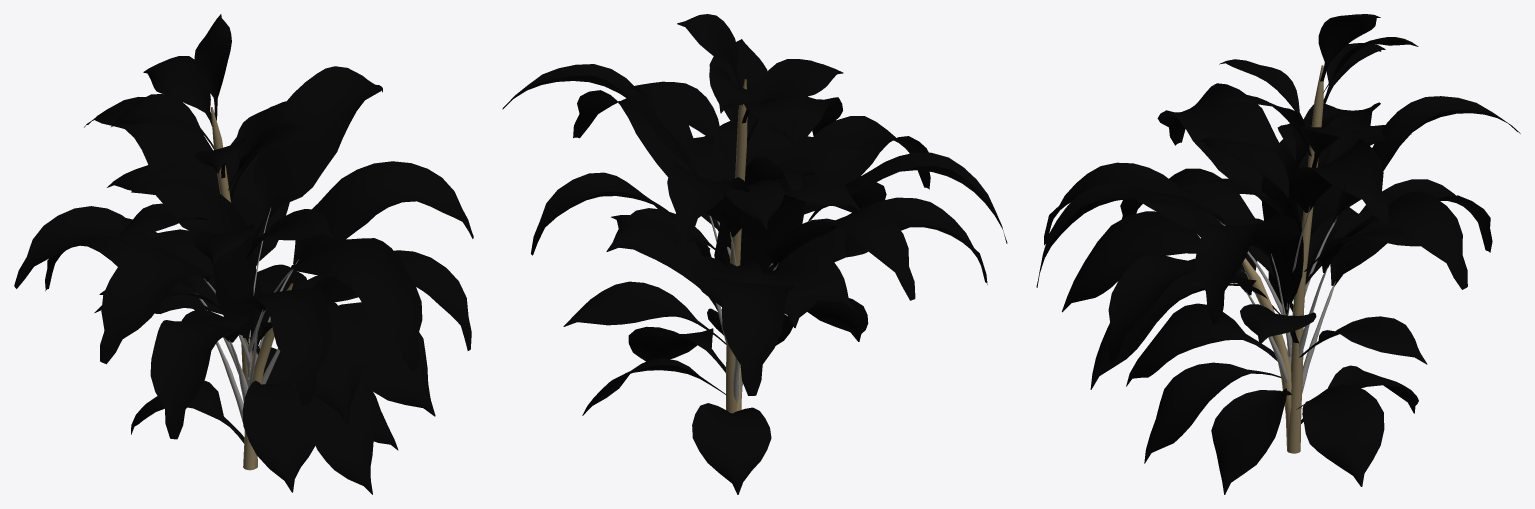
Rendered from Plants_Mesh.fbx.
3 renders of one model, left to right at view 1: azimuth 30°, elevation 25°; view 2: azimuth 150°, elevation 25°; view 3: azimuth 270°, elevation 25°, orthographic. The views are drawn at different scales.
Visible parts, largest first — view 1: Plant_3_Mdl, Plant_1_Mdl, Plant_2_Mdl; view 2: Plant_3_Mdl, Plant_2_Mdl, Plant_1_Mdl; view 3: Plant_3_Mdl, Plant_1_Mdl, Plant_2_Mdl.
Boxes of the visible parts, x1,y1,x2,y2 form: Plant_3_Mdl: [14, 66, 473, 439]; Plant_1_Mdl: [99, 251, 435, 494]; Plant_2_Mdl: [94, 14, 358, 469]; Plant_3_Mdl: [502, 64, 1007, 402]; Plant_2_Mdl: [563, 14, 869, 413]; Plant_1_Mdl: [582, 182, 886, 494]; Plant_3_Mdl: [1036, 83, 1520, 393]; Plant_1_Mdl: [1062, 211, 1418, 494]; Plant_2_Mdl: [1176, 14, 1427, 453].
Bounding box in the file's own units: 2.1 × 2.16 × 2.15.
